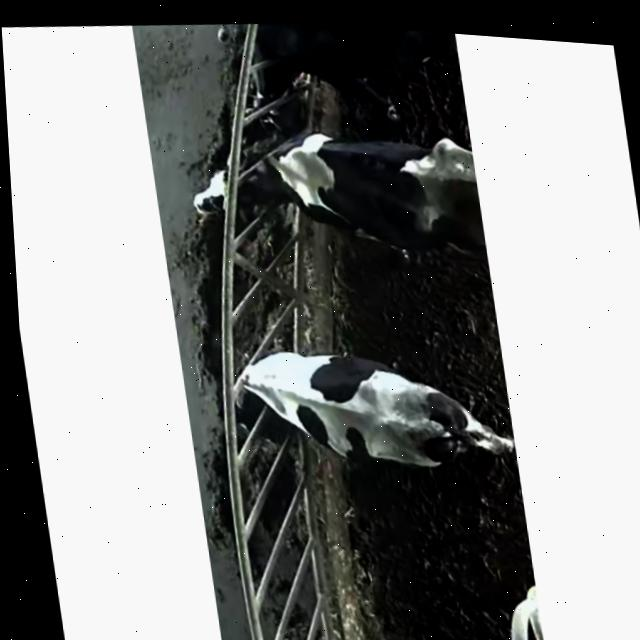eat: (157, 115, 364, 269), (196, 323, 355, 481), (179, 13, 356, 114)
